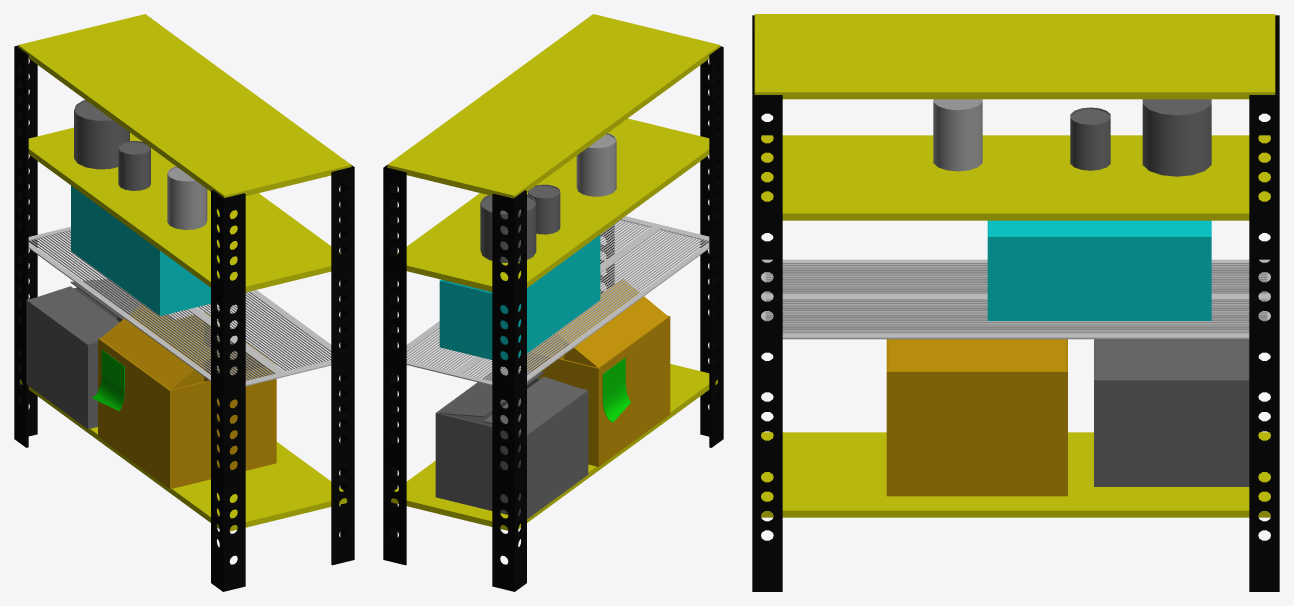
Rendered from Rack.dae.
3 renders of one model, left to right at view 1: azimuth 30°, elevation 25°; view 2: azimuth 150°, elevation 25°; view 3: azimuth 270°, elevation 25°, orthographic. The views are drawn at different scales.
Parts seen in each view (by area): view 1: Rack_F2, Rack_Leg_, Carton_2, Rack_F, Carton_1, Carton_3, Can_2, Can_1, Can_3, Derbess_2; view 2: Rack_F2, Rack_Leg_, Carton_1, Carton_2, Rack_F, Carton_3, Can_1, Can_2, Can_3, Derbess_2; view 3: Rack_F2, Carton_2, Rack_Leg_, Rack_F, Carton_1, Carton_3, Can_2, Can_1, Can_3.
Boxes of the visible parts, x1,y1,x2,y2 form: Rack_F2: (18, 14, 351, 531); Rack_Leg_: (14, 45, 354, 591); Carton_2: (98, 304, 276, 489); Rack_F: (28, 226, 331, 386); Carton_1: (26, 279, 173, 428); Carton_3: (71, 185, 210, 315); Can_2: (74, 100, 129, 169); Can_1: (167, 166, 207, 229); Can_3: (118, 141, 150, 190); Derbess_2: (92, 350, 124, 411); Rack_F2: (387, 14, 720, 530); Rack_Leg_: (383, 46, 723, 591); Carton_1: (435, 369, 588, 518); Carton_2: (492, 279, 670, 466); Rack_F: (406, 216, 709, 385); Carton_3: (439, 235, 600, 359); Can_1: (576, 133, 616, 196); Can_2: (480, 194, 536, 262); Can_3: (528, 184, 560, 234); Derbess_2: (602, 357, 630, 422); Rack_F2: (754, 14, 1275, 517); Carton_2: (886, 339, 1067, 496); Rack_Leg_: (752, 15, 1279, 591); Rack_F: (761, 259, 1270, 339); Carton_1: (1094, 339, 1249, 486); Carton_3: (987, 220, 1211, 320); Can_2: (1142, 99, 1211, 176); Can_1: (933, 99, 982, 171); Can_3: (1070, 107, 1110, 170).
Bounding box in the file's own units: 7.41 × 19.65 × 18.85.
